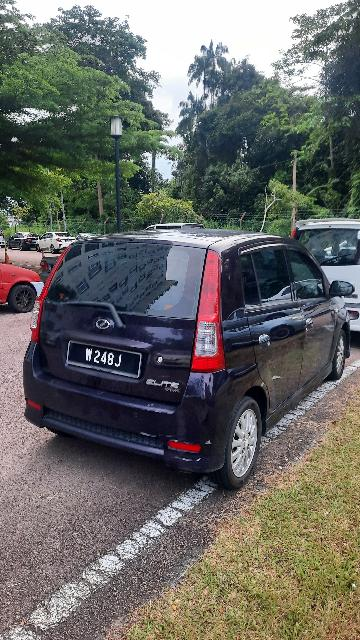License_Plate: (65, 340, 147, 381)
car: (24, 232, 342, 483)
